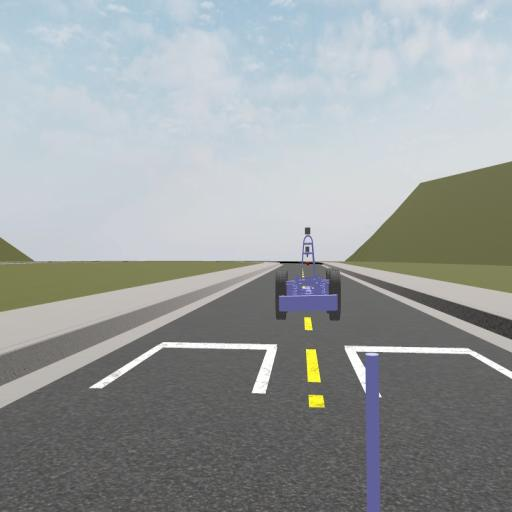ERP-42: (274, 228, 342, 320)
